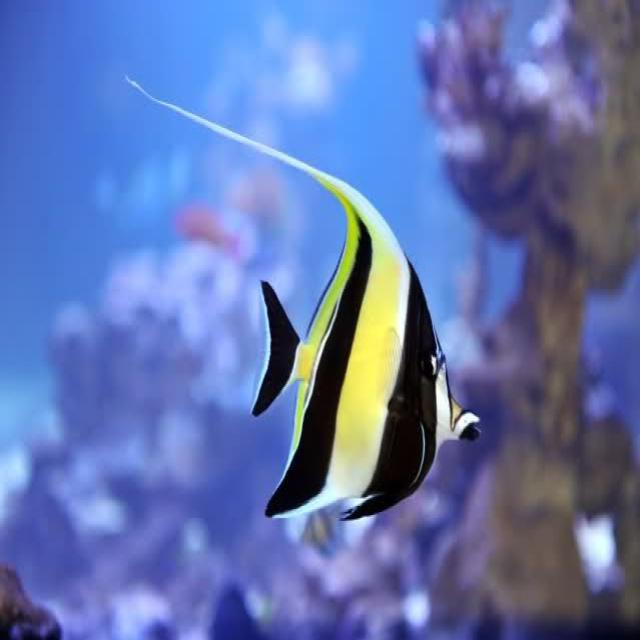MorishIdol: (121, 71, 483, 527)
